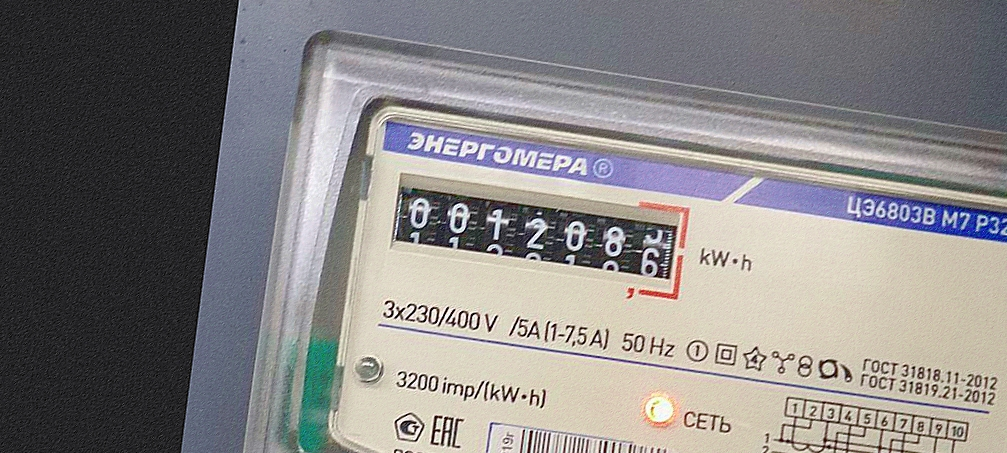0: (444, 199, 472, 239), (560, 218, 589, 256), (407, 194, 431, 234)
1: (485, 206, 506, 245)
2: (521, 216, 551, 254)
6: (635, 244, 663, 282)
8: (599, 224, 626, 263)
screen: (375, 161, 700, 318)
